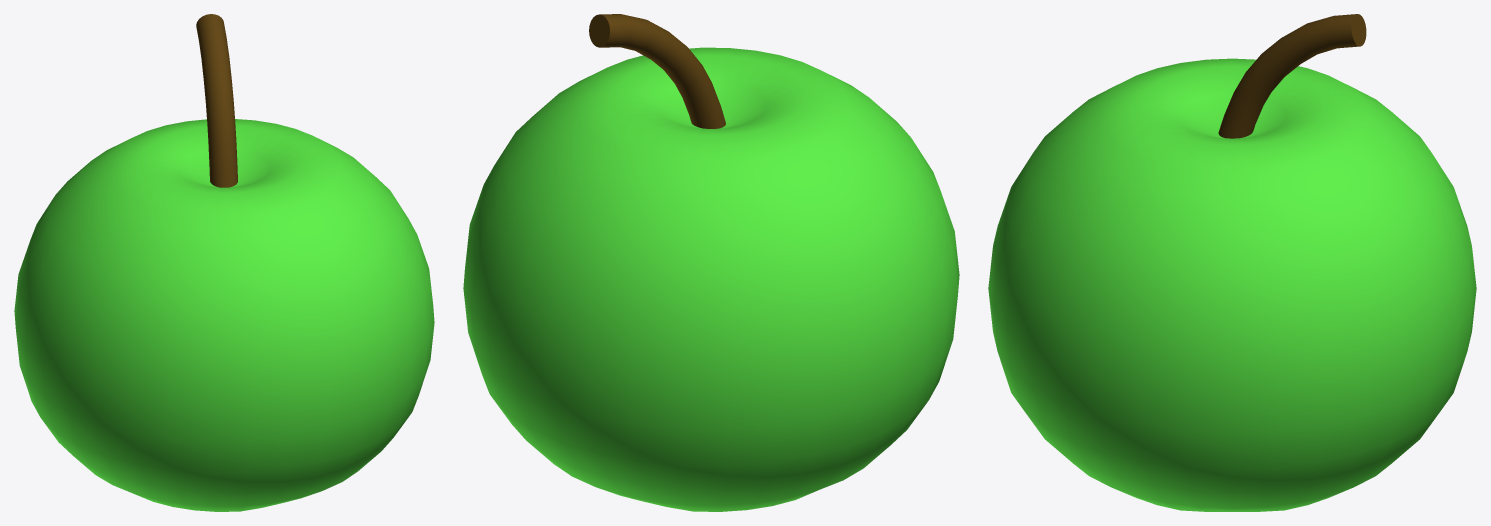
Rendered from Food.FBX.
3 views of the same model, side by side, from view 1: azimuth 30°, elevation 25°; view 2: azimuth 150°, elevation 25°; view 3: azimuth 270°, elevation 25° (orthographic). The views are drawn at different scales.
Visible parts, largest first — view 1: Sphere001, Cylinder001; view 2: Sphere001, Cylinder001; view 3: Sphere001, Cylinder001.
Boxes of the visible parts, box(x1,y1,x2,y2) form: Sphere001: box(14, 119, 434, 511); Cylinder001: box(196, 14, 237, 187); Sphere001: box(463, 47, 959, 511); Cylinder001: box(589, 14, 725, 128); Sphere001: box(988, 58, 1476, 511); Cylinder001: box(1218, 14, 1366, 138).
Size of the model in its own units: 71.19 by 76.33 by 71.19.
Materials: 2 (2 with a texture image).
